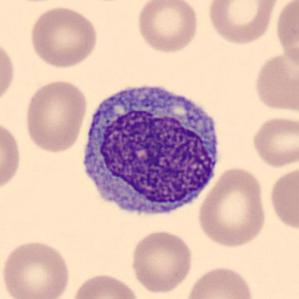Monocyte: (74, 72, 227, 225)
RBC: (196, 164, 269, 249), (22, 78, 89, 154), (27, 4, 101, 69), (129, 228, 195, 295), (0, 238, 72, 299), (134, 0, 201, 55), (205, 0, 281, 46), (252, 48, 298, 115), (182, 264, 258, 299), (250, 114, 298, 169), (267, 164, 299, 232), (70, 271, 142, 299), (273, 0, 298, 74), (0, 116, 23, 195), (0, 36, 17, 108)
